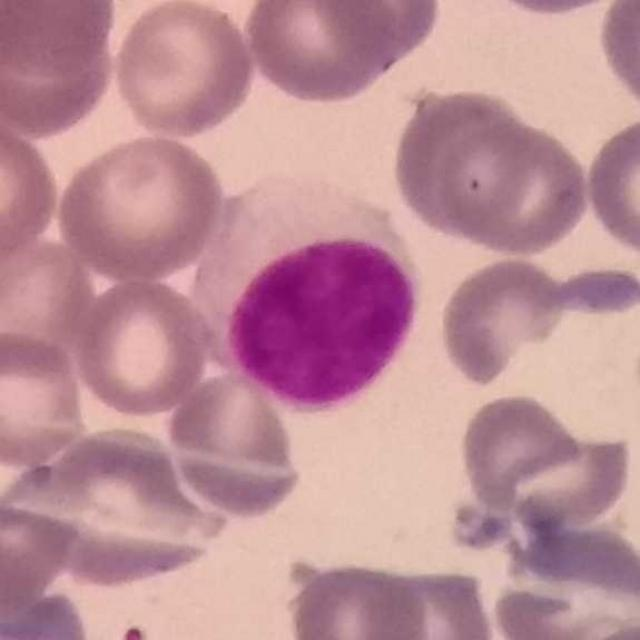Lymphocyte: (191, 184, 431, 431)
RBC: (6, 421, 232, 590), (386, 82, 567, 254), (51, 130, 229, 283), (451, 388, 630, 536), (162, 367, 305, 521), (70, 274, 215, 421), (108, 0, 259, 140), (486, 516, 639, 640), (435, 252, 571, 390), (240, 0, 402, 107), (0, 229, 99, 362), (0, 325, 90, 471), (281, 556, 431, 640), (354, 563, 500, 640), (0, 496, 78, 626), (0, 109, 62, 268), (0, 0, 121, 77), (315, 0, 444, 69), (582, 111, 640, 264), (491, 591, 640, 639), (534, 262, 640, 320), (0, 580, 95, 640), (594, 0, 640, 119), (474, 0, 635, 19), (565, 614, 640, 640)
